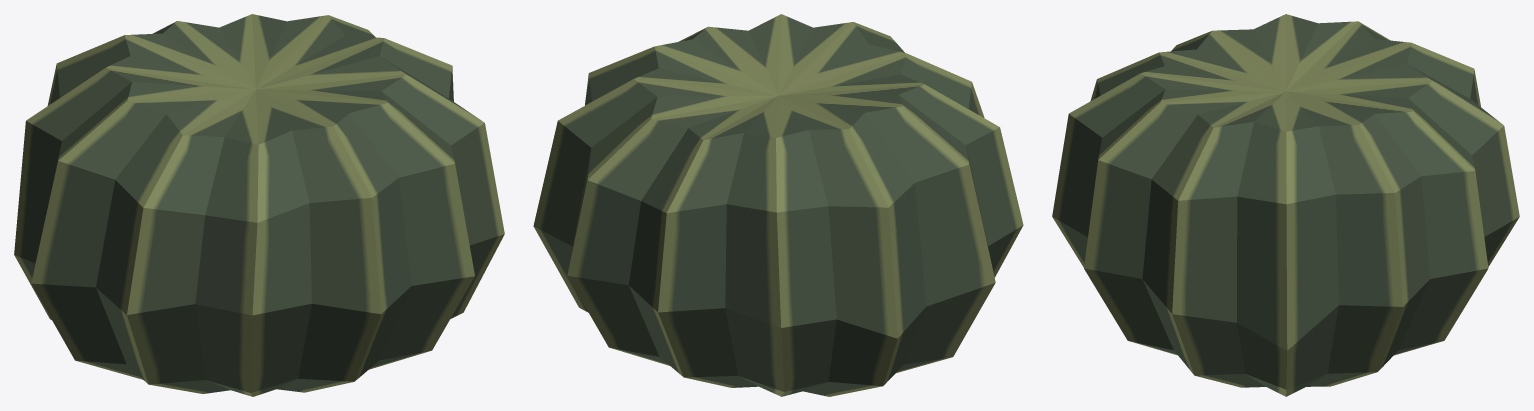
Rendered from SM_Env_Cactus_02.glb.
The picture shows the model from 3 angles, left to right: view 1: azimuth 30°, elevation 25°; view 2: azimuth 150°, elevation 25°; view 3: azimuth 270°, elevation 25°; orthographic projection. The views are drawn at different scales.
Visible parts, largest first — view 1: SM_Env_Cactus_02; view 2: SM_Env_Cactus_02; view 3: SM_Env_Cactus_02.
Part boxes in pixels (x1=…): SM_Env_Cactus_02: x1=14, y1=14, x2=504, y2=396; SM_Env_Cactus_02: x1=533, y1=14, x2=1023, y2=396; SM_Env_Cactus_02: x1=1052, y1=14, x2=1519, y2=396.
Bounding box in the file's own units: 0.5652 × 0.3819 × 0.5714.
Materials: 1 (1 with a texture image).
